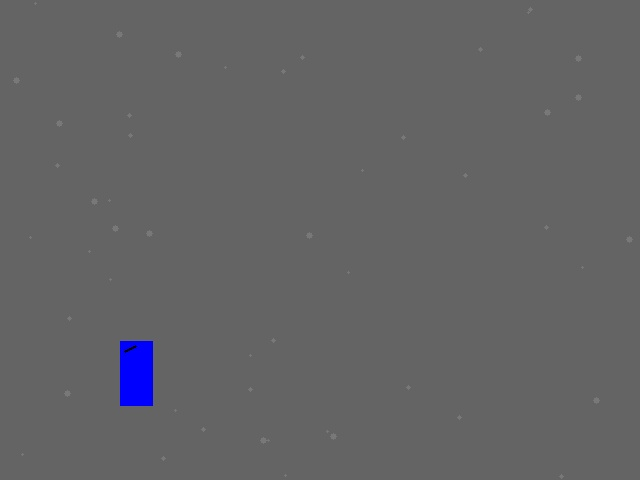motorcycle: (120, 341, 152, 405)
